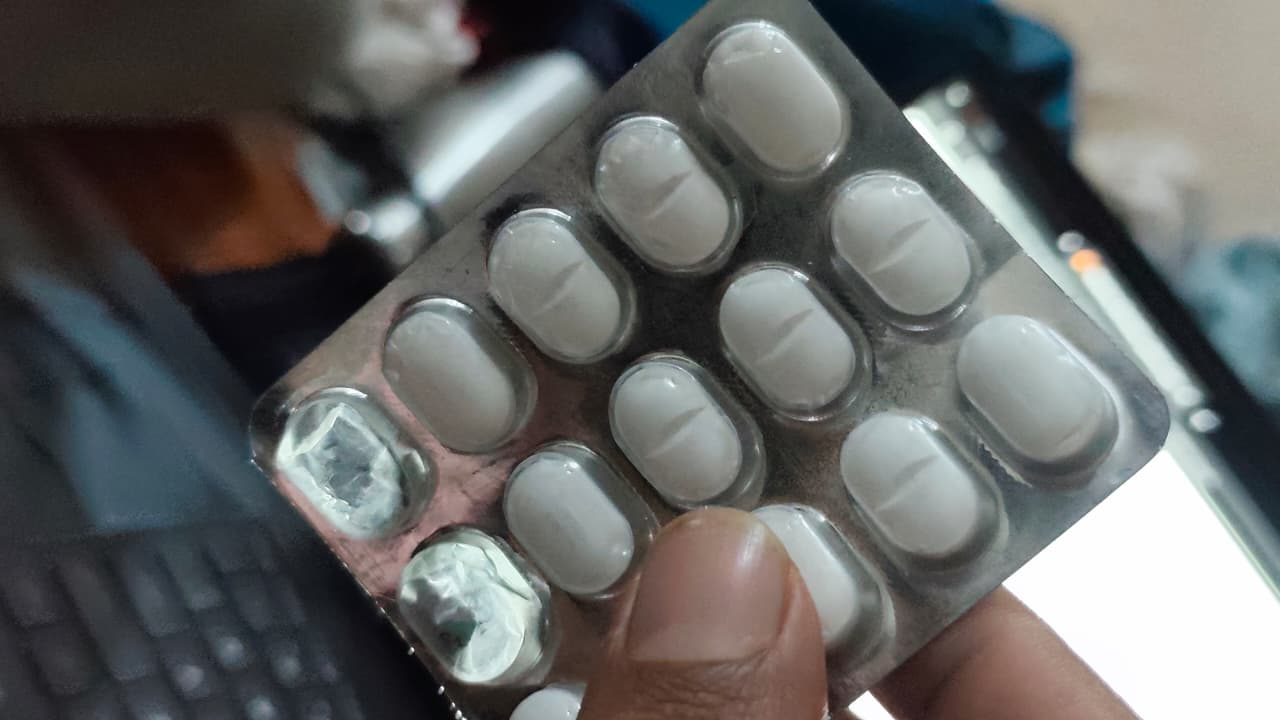MedicineStrip: (240, 0, 1171, 720)
